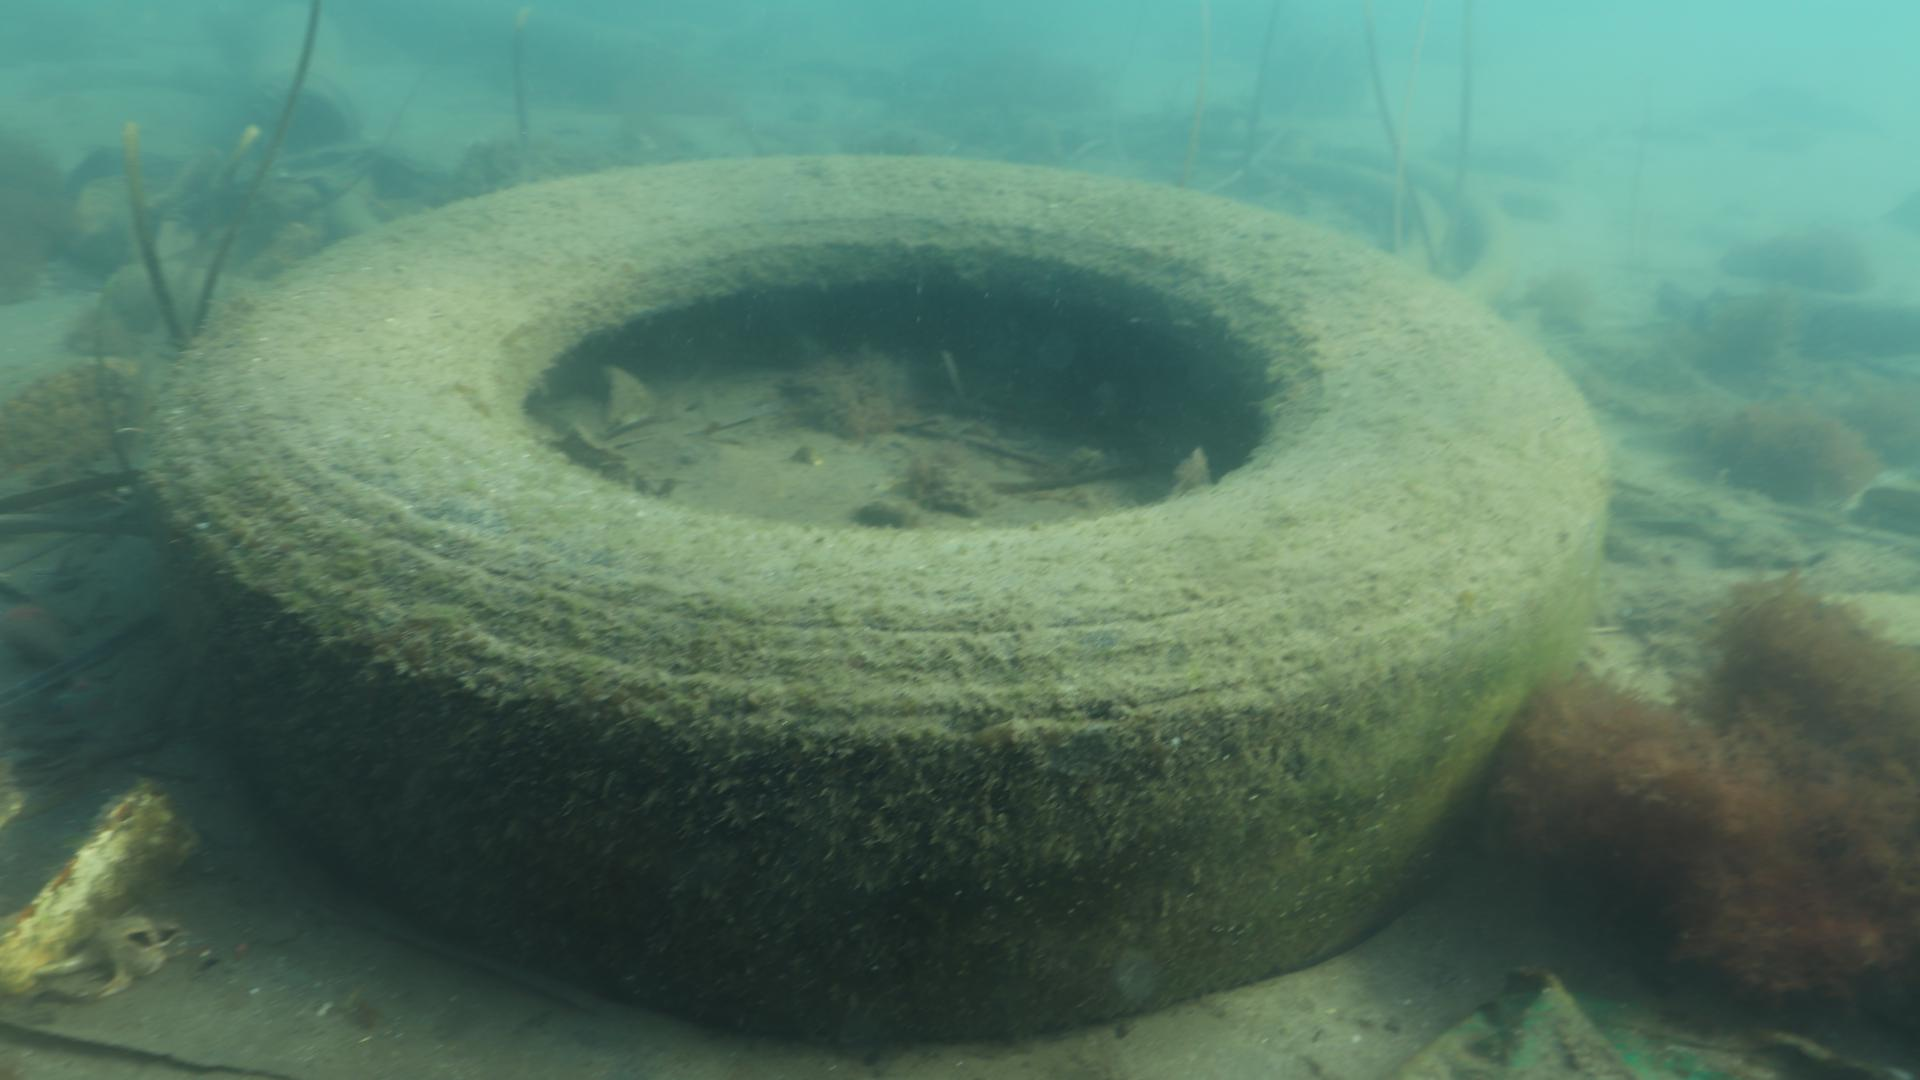tire: (125, 149, 1610, 1044)
